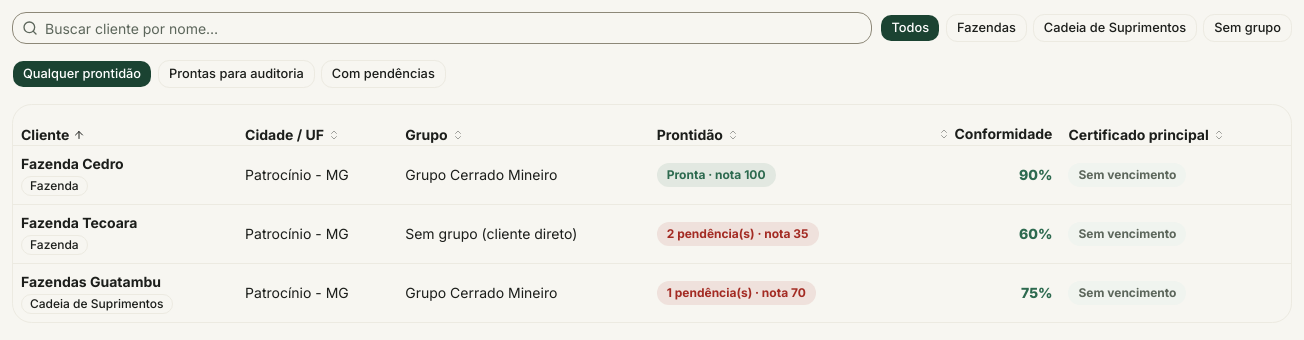
it: Filtro de prontidão › combina com o filtro de tipo
This screenshot has width=1304, height=340.
Click the button "Com pendências". click: point(383, 74)
box: 321,60 -> 446,88
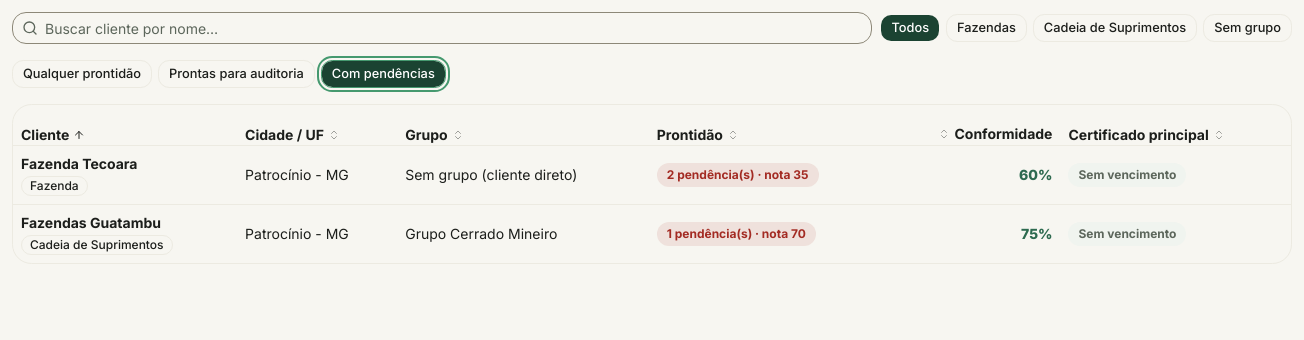
Click the button "Fazendas". click: point(986, 28)
box: 946,14 -> 1027,42
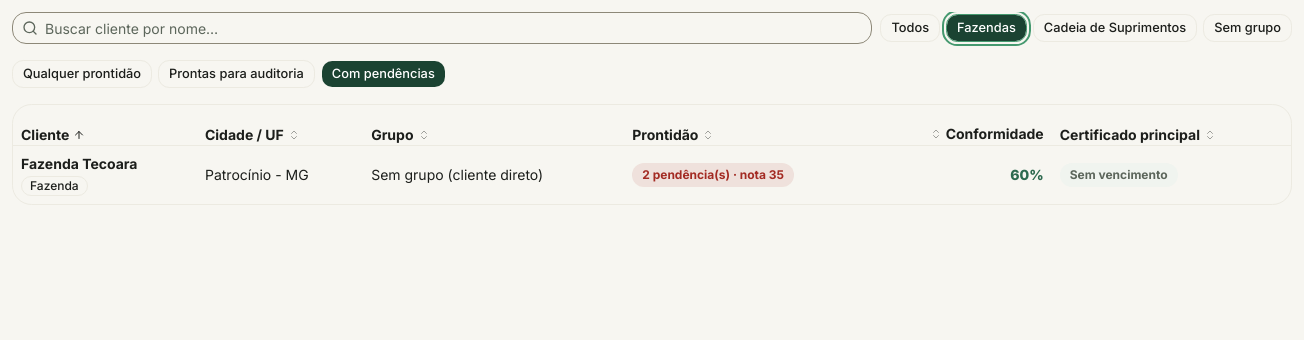
Check: the link "Fazenda Tecoara" is shown, box 21,154 -> 138,172
Check: the link "Fazendas Guatambu" is gone
